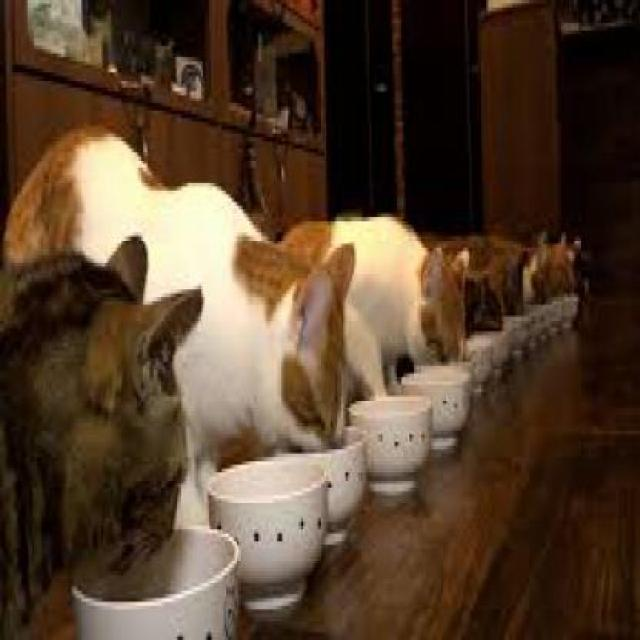cat: (0, 132, 358, 449), (0, 231, 209, 640), (278, 210, 470, 368), (464, 272, 505, 334)
